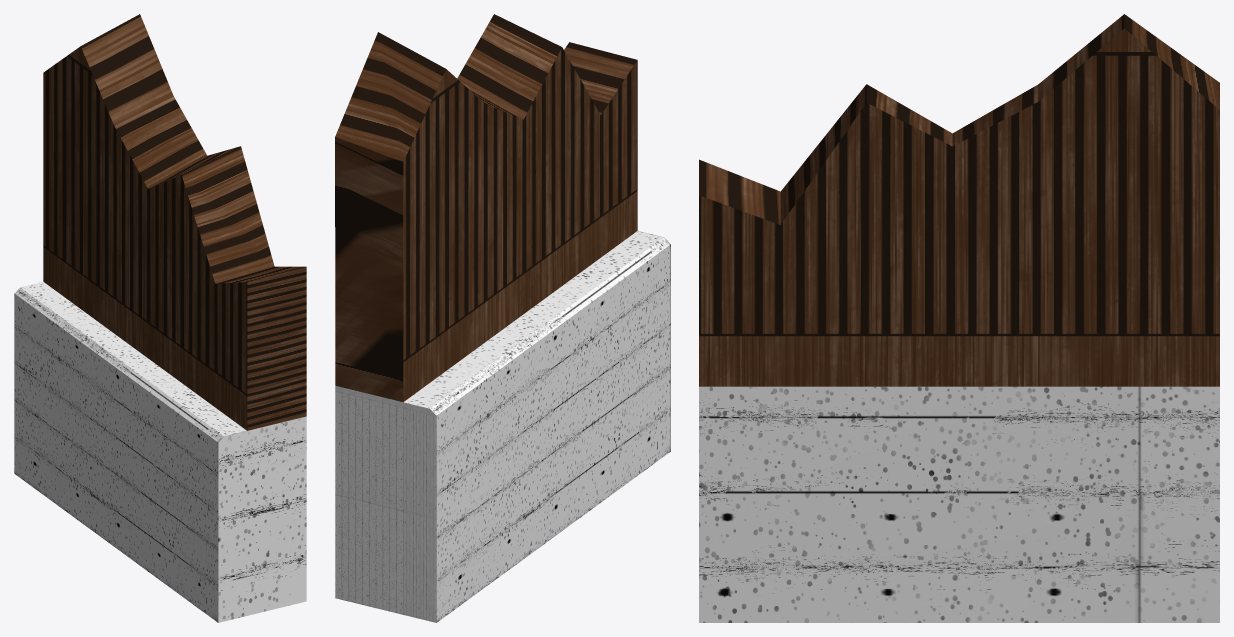
Rendered from Wall_Spacer_Cardinal_Front_02_Damaged.fbx.
3 views of the same model, side by side, from view 1: azimuth 30°, elevation 25°; view 2: azimuth 150°, elevation 25°; view 3: azimuth 270°, elevation 25° (orthographic). The views are drawn at different scales.
Parts seen in each view (by area): view 1: Wall_Spacer_Cardinal_Front_02_Damaged; view 2: Wall_Spacer_Cardinal_Front_02_Damaged; view 3: Wall_Spacer_Cardinal_Front_02_Damaged.
Part boxes in pixels (x1=…): Wall_Spacer_Cardinal_Front_02_Damaged: x1=14, y1=14, x2=306, y2=622; Wall_Spacer_Cardinal_Front_02_Damaged: x1=335, y1=14, x2=670, y2=622; Wall_Spacer_Cardinal_Front_02_Damaged: x1=699, y1=14, x2=1219, y2=622.
Bounding box in the file's own units: 0.25 × 1.26 × 1.
